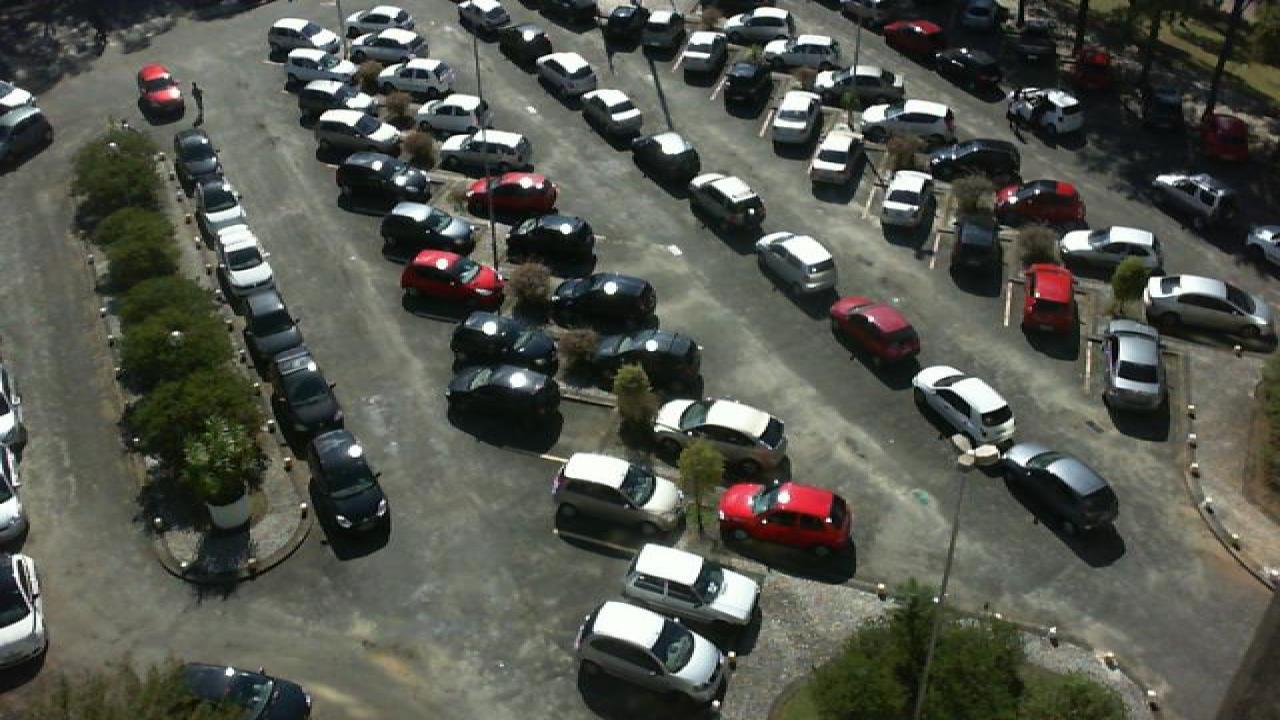Car: (570, 602, 730, 706), (622, 542, 766, 632), (548, 451, 684, 539), (1000, 441, 1120, 537), (648, 398, 790, 477), (714, 481, 852, 556), (910, 366, 1018, 448), (1140, 274, 1272, 338), (176, 661, 310, 720), (826, 294, 920, 374), (594, 327, 706, 387), (1100, 320, 1172, 410), (546, 271, 656, 327), (0, 552, 48, 680), (444, 364, 562, 416), (498, 213, 596, 270), (448, 309, 544, 367), (754, 231, 838, 297), (1142, 171, 1234, 231), (1058, 224, 1164, 276), (398, 248, 500, 301), (376, 200, 474, 253), (316, 477, 390, 546), (334, 150, 430, 202), (686, 171, 764, 233), (1020, 261, 1078, 341), (990, 179, 1088, 226), (926, 138, 1022, 184), (458, 170, 558, 214), (306, 428, 374, 492), (438, 128, 532, 172), (308, 108, 398, 153), (1004, 86, 1084, 136), (876, 168, 940, 230), (630, 130, 702, 185), (946, 219, 1006, 284), (934, 46, 1010, 97), (756, 34, 840, 78), (874, 19, 950, 65), (580, 86, 644, 140), (858, 103, 938, 146), (408, 93, 488, 136), (286, 75, 366, 118), (280, 386, 344, 438), (532, 47, 596, 98), (808, 135, 862, 195), (378, 60, 458, 99), (804, 70, 878, 112), (272, 345, 330, 396), (722, 6, 798, 44), (134, 63, 186, 118), (768, 100, 820, 153), (676, 30, 730, 81), (350, 28, 428, 63), (488, 16, 548, 61), (718, 64, 770, 115), (264, 17, 336, 53), (340, 4, 416, 38), (1198, 114, 1250, 162), (256, 310, 310, 356), (278, 48, 342, 86), (220, 243, 274, 288), (634, 0, 684, 46), (238, 276, 288, 322), (206, 214, 254, 255), (192, 182, 234, 224), (178, 155, 220, 195), (170, 128, 212, 164), (454, 0, 504, 30)
